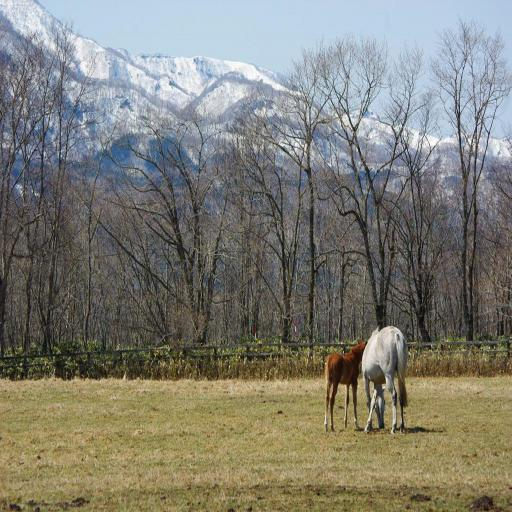horse: (361, 326, 411, 436), (324, 338, 368, 430)
